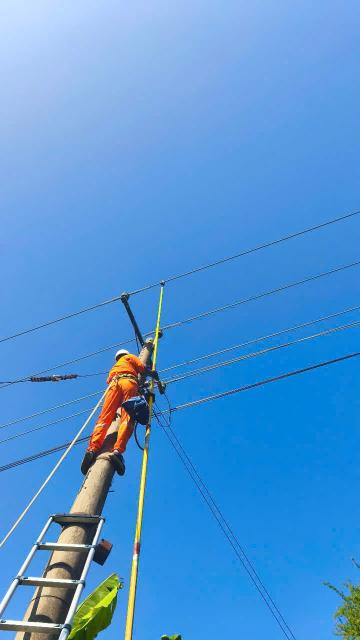gloves: (140, 362, 160, 377)
harness: (101, 371, 145, 386)
helmet: (113, 348, 133, 360)
shoes: (75, 449, 99, 477), (110, 449, 133, 474)
